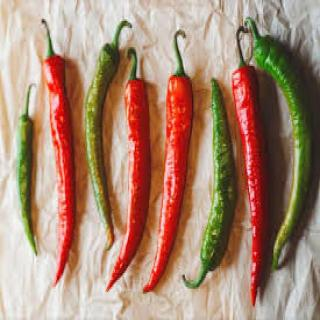Cabai Hijau: (252, 37, 315, 270), (84, 41, 121, 250), (200, 80, 238, 271), (15, 118, 37, 258)
Cabai Merah: (143, 72, 195, 293), (106, 79, 151, 294), (231, 67, 270, 309), (41, 21, 76, 284)
